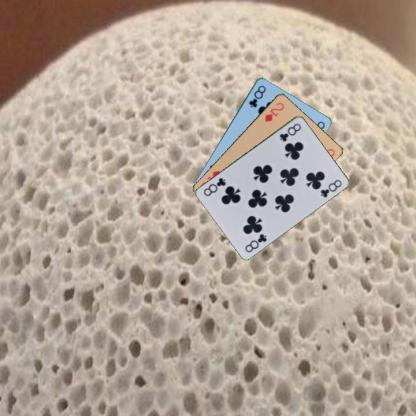2d: (262, 100, 286, 122)
8c: (242, 231, 268, 254), (246, 82, 267, 109), (277, 120, 302, 142)
